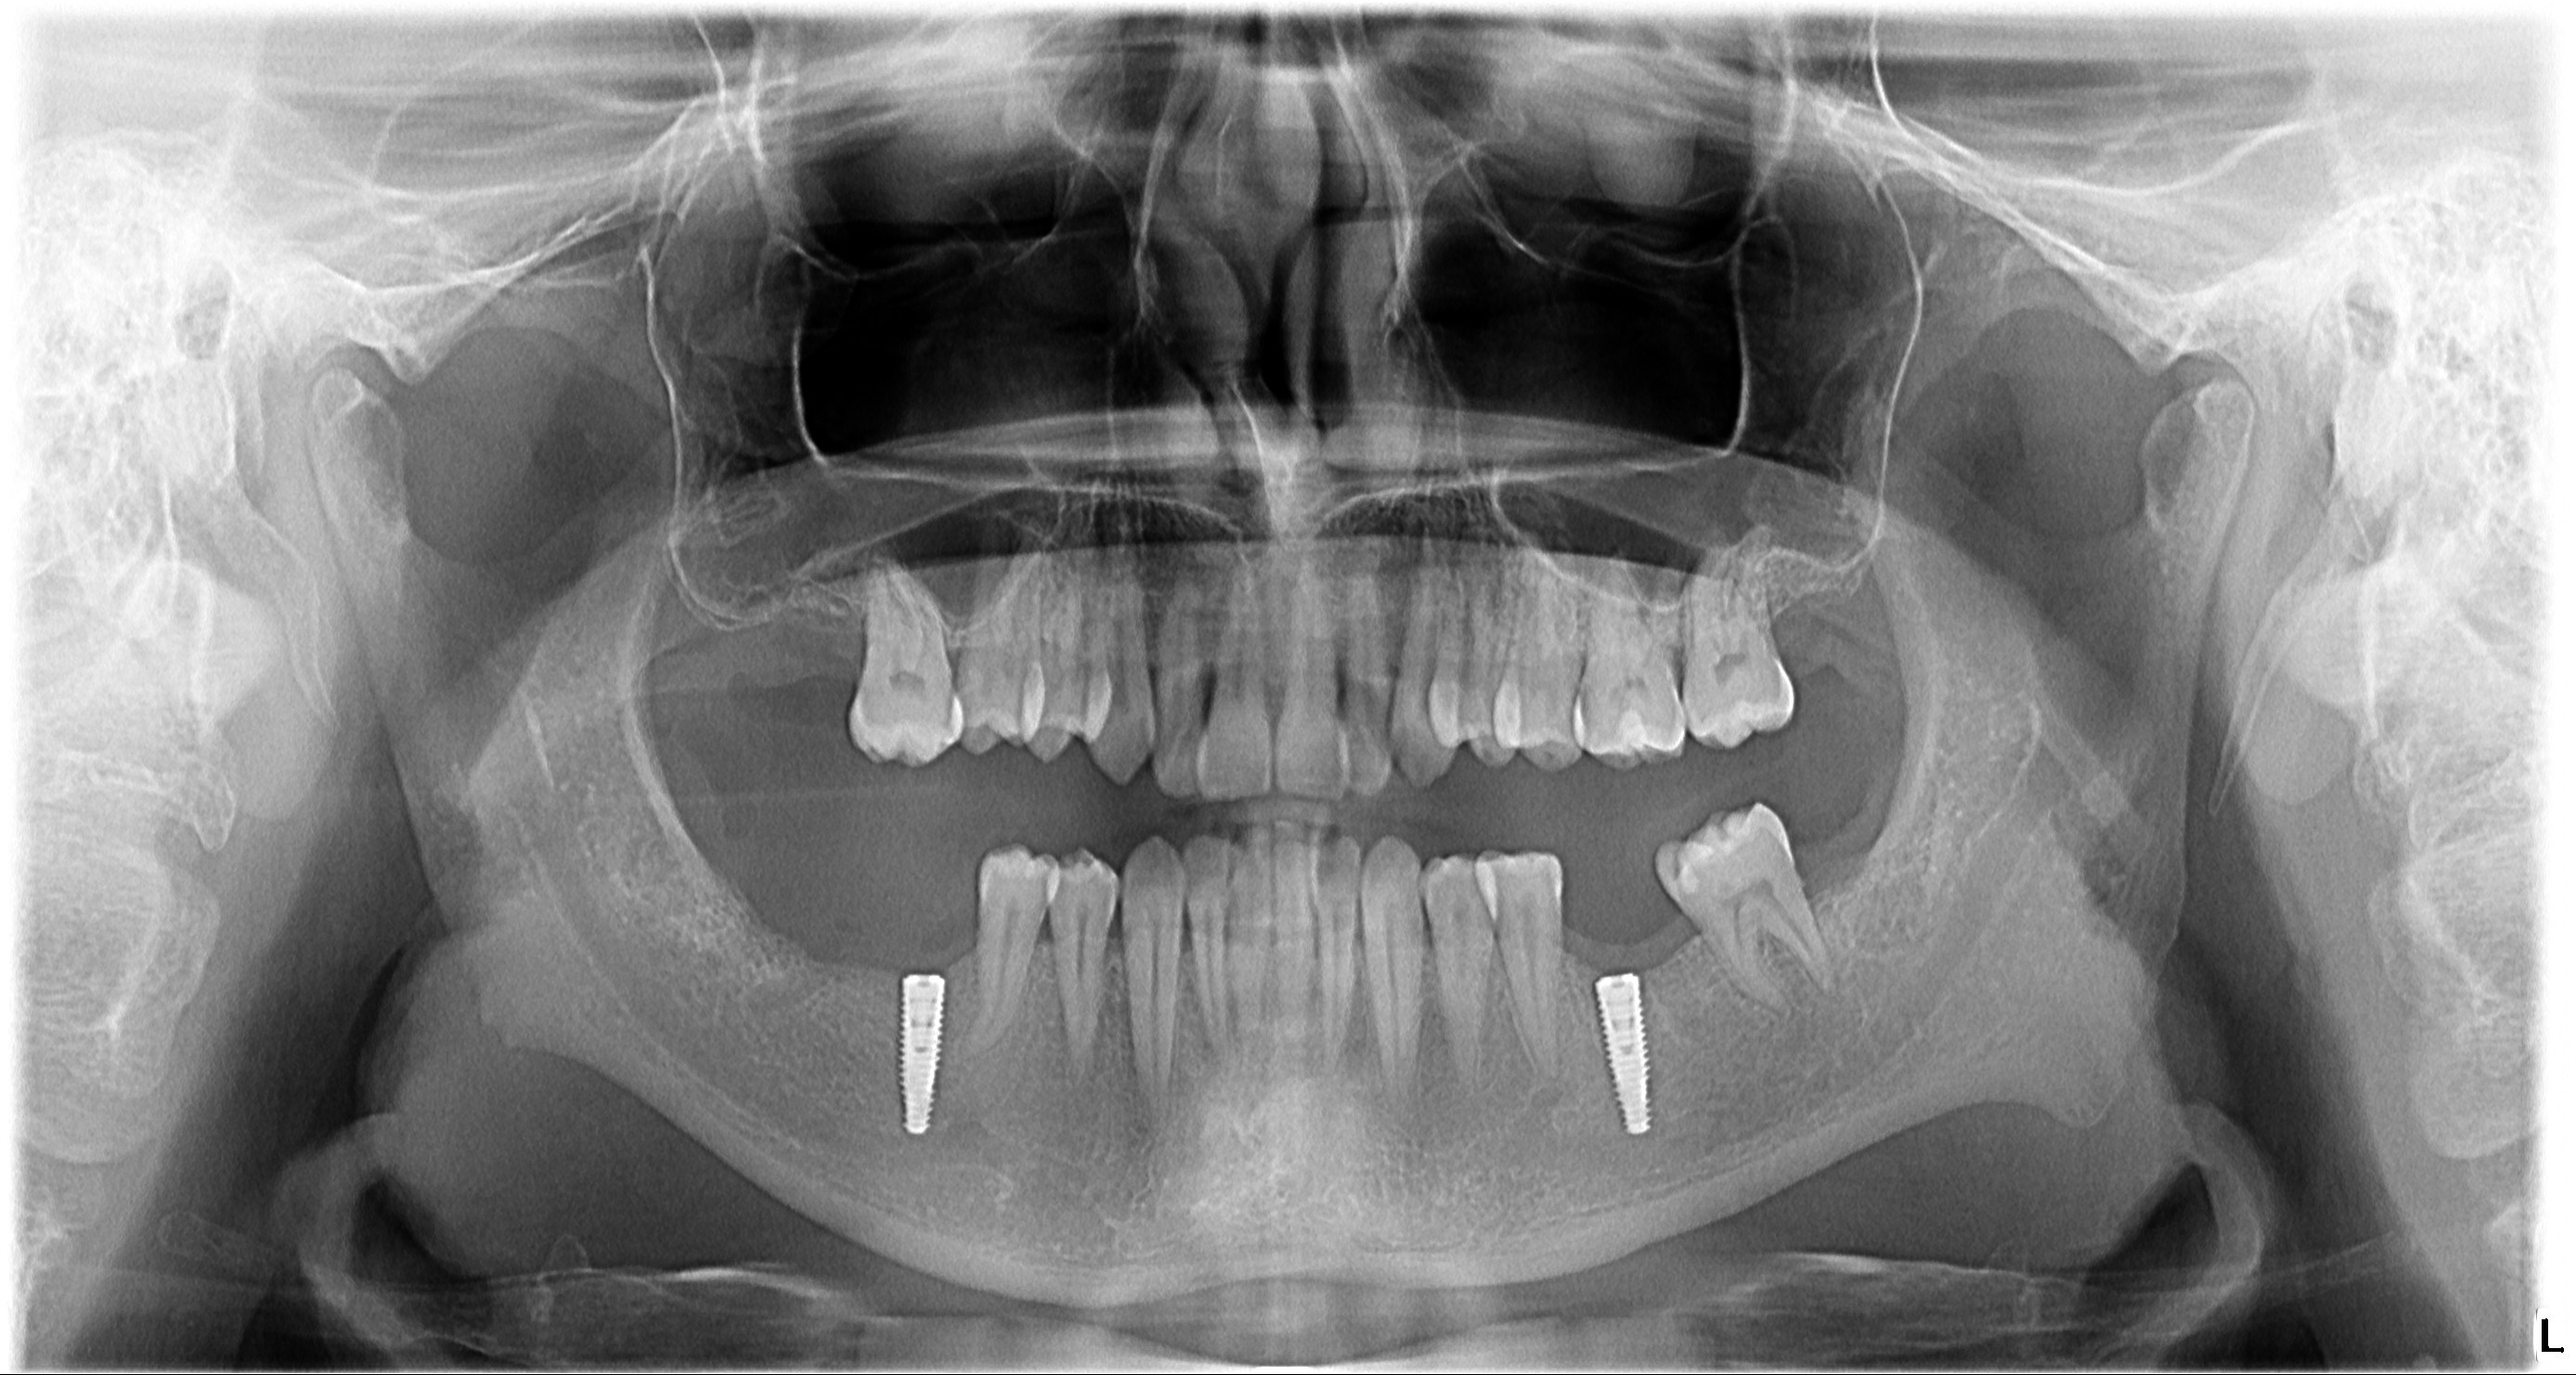BON: (1547, 903, 1728, 990), (808, 595, 883, 683), (922, 912, 995, 987)
IMP: (881, 958, 959, 1154), (1588, 961, 1665, 1142)
